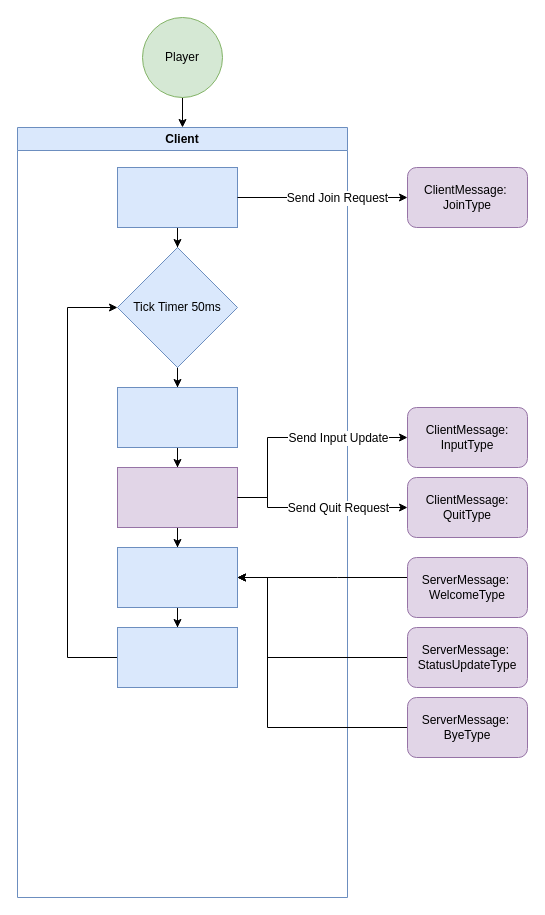
Image size: 545x915. Some labels were removed from this diagram. Here are the shapes that lost their labels. From the top down, the box of each, then its label:
(116, 166, 238, 228): Launch Client & Connect to Server
(116, 386, 238, 448): Input Manager
(116, 466, 238, 528): Websocket
(116, 546, 238, 608): Render Manager
(116, 626, 238, 688): Display on Screen
